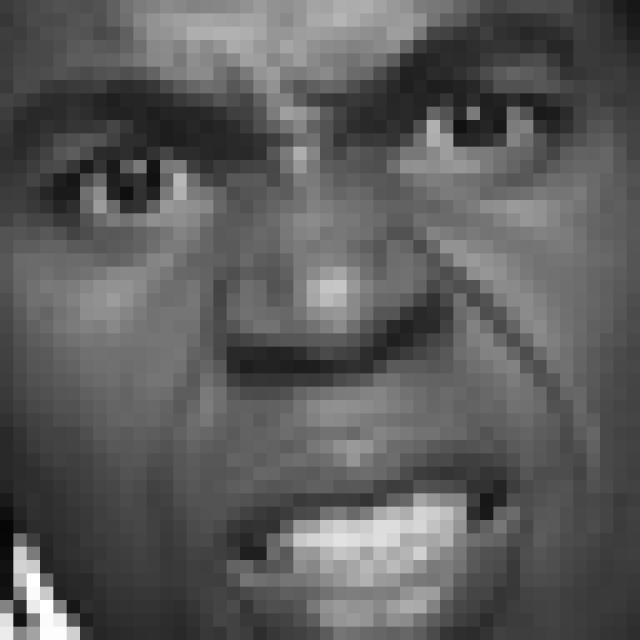angry: (28, 19, 581, 640)
